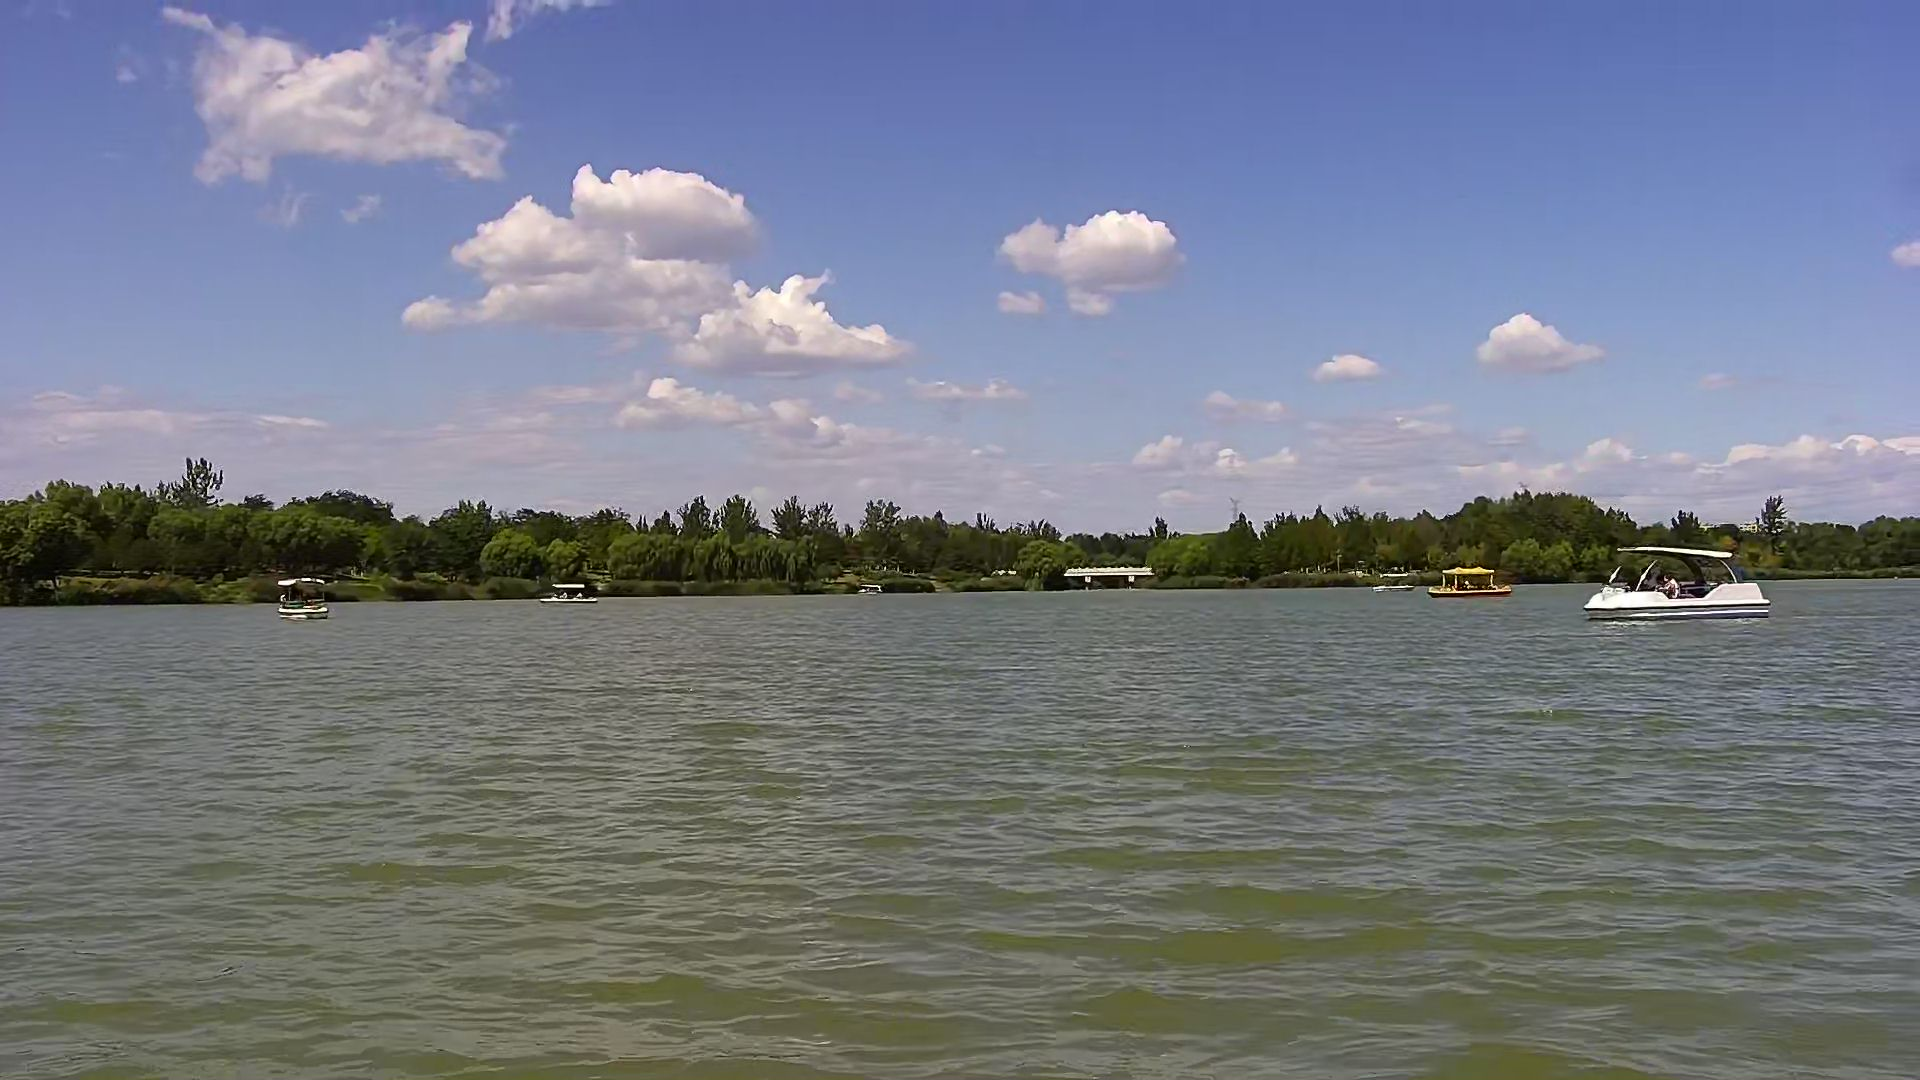boat: (1582, 543, 1774, 622), (1428, 567, 1513, 597), (277, 574, 323, 626), (538, 579, 595, 607), (1374, 571, 1412, 593)
bridge: (1069, 564, 1149, 595)
